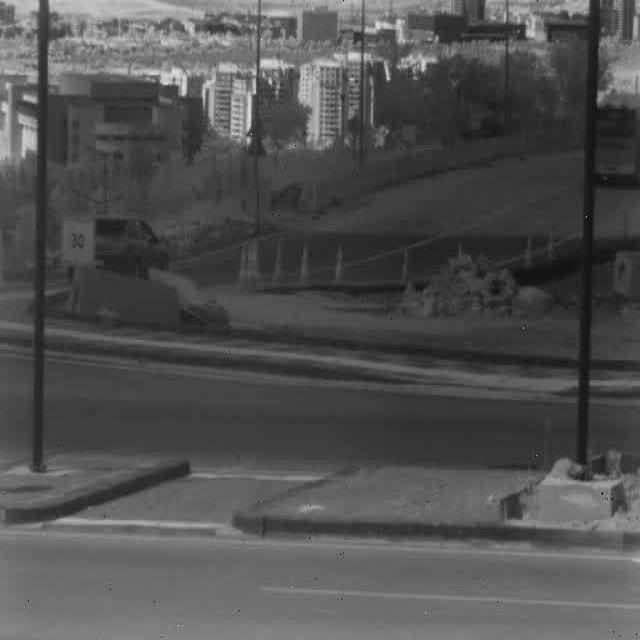Bus: (595, 100, 640, 189)
Car: (67, 215, 169, 286)
